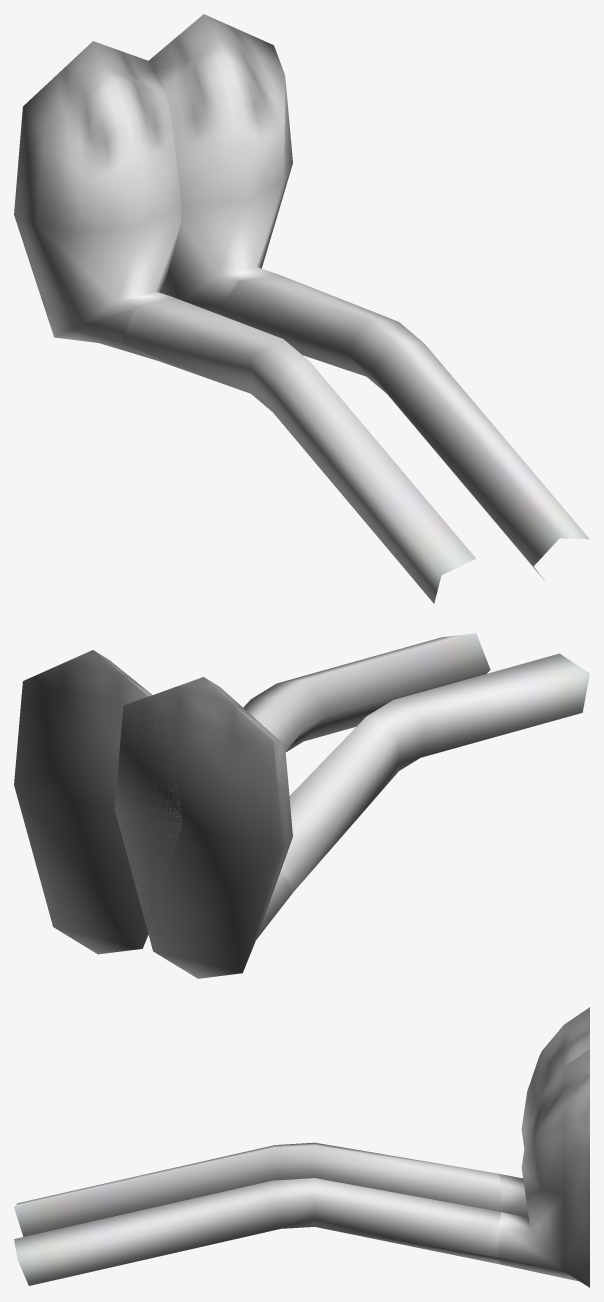
The model's file is legs_l.glb.
The picture shows the model from 3 angles, top to bottom: view 1: azimuth 30°, elevation 25°; view 2: azimuth 150°, elevation 25°; view 3: azimuth 270°, elevation 25°; orthographic projection. The views are drawn at different scales.
Visible parts, largest first — view 1: feet, legs; view 2: feet, legs; view 3: legs, feet.
Boxes of the visible parts, x1,y1,x2,y2 form: feet: [14, 14, 292, 360]; legs: [121, 274, 589, 603]; feet: [14, 650, 293, 978]; legs: [243, 633, 589, 891]; legs: [14, 1142, 501, 1285]; feet: [498, 1007, 589, 1287].
Size of the model in its own units: 1.14 by 1.24 by 2.71.
2 materials, 2 textured.
